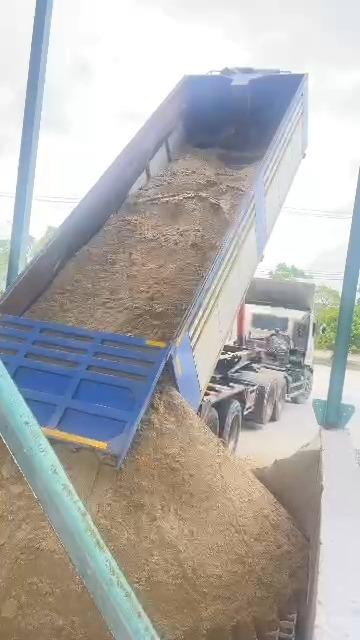sand: (56, 389, 307, 639), (57, 391, 307, 639), (27, 150, 253, 340), (29, 152, 250, 337), (0, 448, 108, 639), (0, 449, 108, 639), (241, 441, 319, 537), (253, 437, 322, 543)
